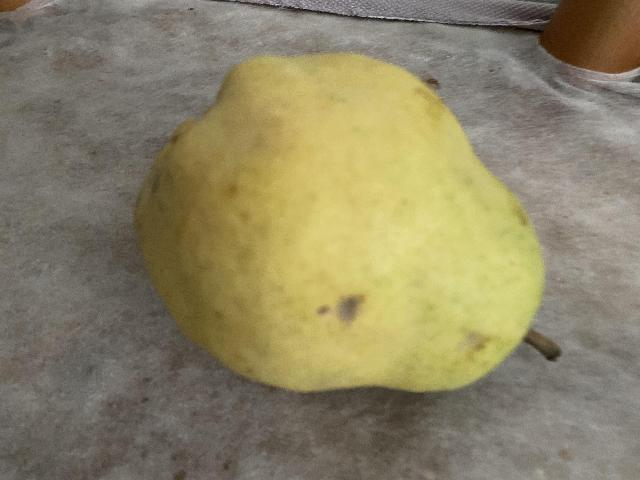Organik: (138, 41, 560, 376)
